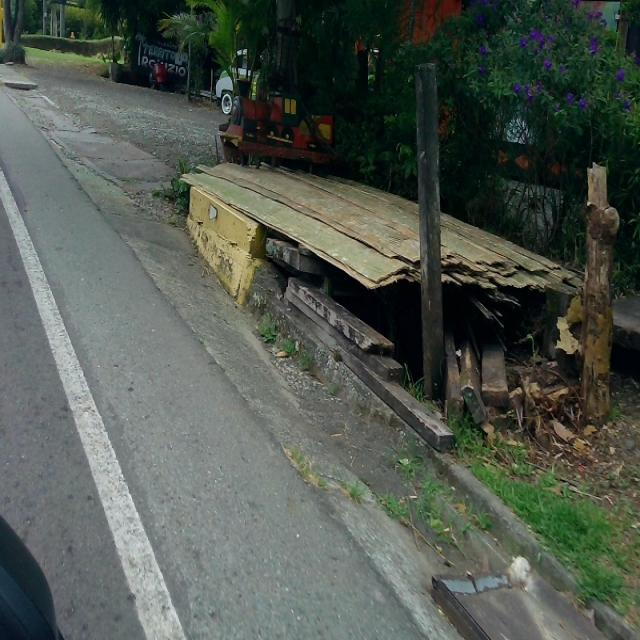DITCH: (2, 59, 636, 638)
